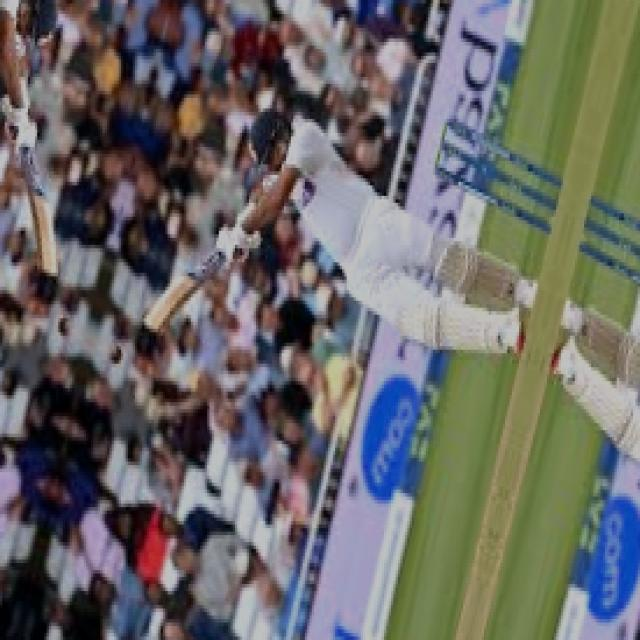toe: (136, 317, 166, 337)
